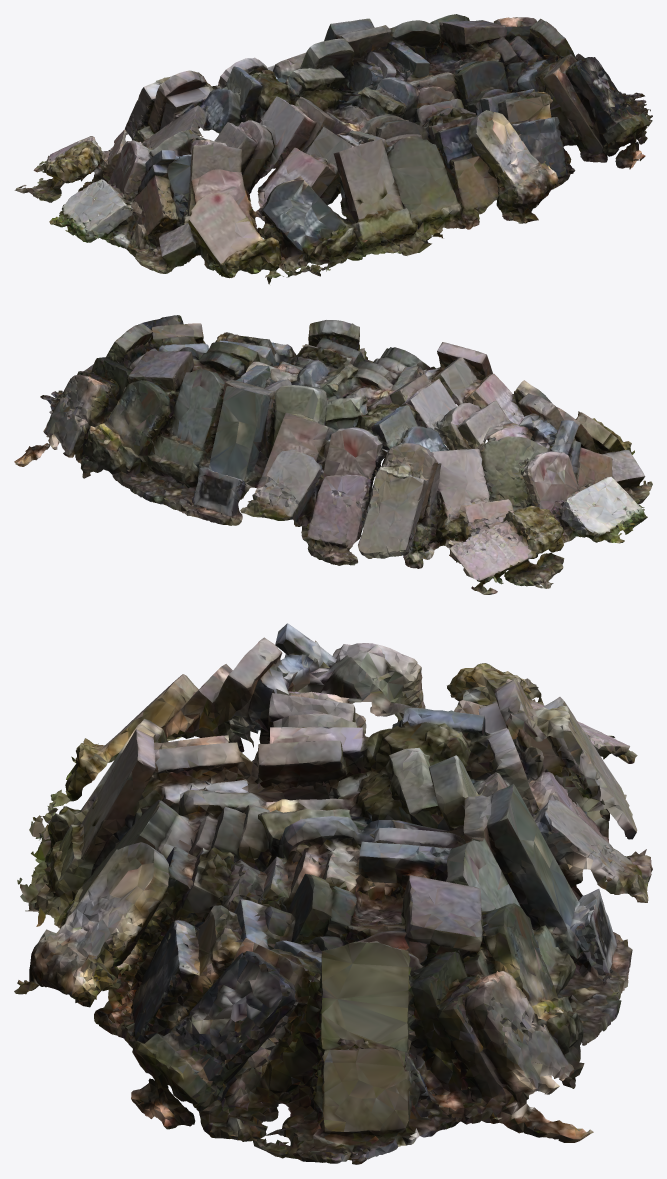
3 views of the same model, one above another, from view 1: azimuth 30°, elevation 25°; view 2: azimuth 150°, elevation 25°; view 3: azimuth 270°, elevation 25° (orthographic). The views are drawn at different scales.
Parts seen in each view (by area): view 1: 512.25k; view 2: 512.25k; view 3: 512.25k.
Boxes of the visible parts, x1,y1,x2,y2 form: 512.25k: [14, 14, 652, 284]; 512.25k: [14, 315, 652, 594]; 512.25k: [14, 623, 652, 1164].
Size of the model in its own units: 14.91 by 2.76 by 8.57.
1 material, 1 textured.
